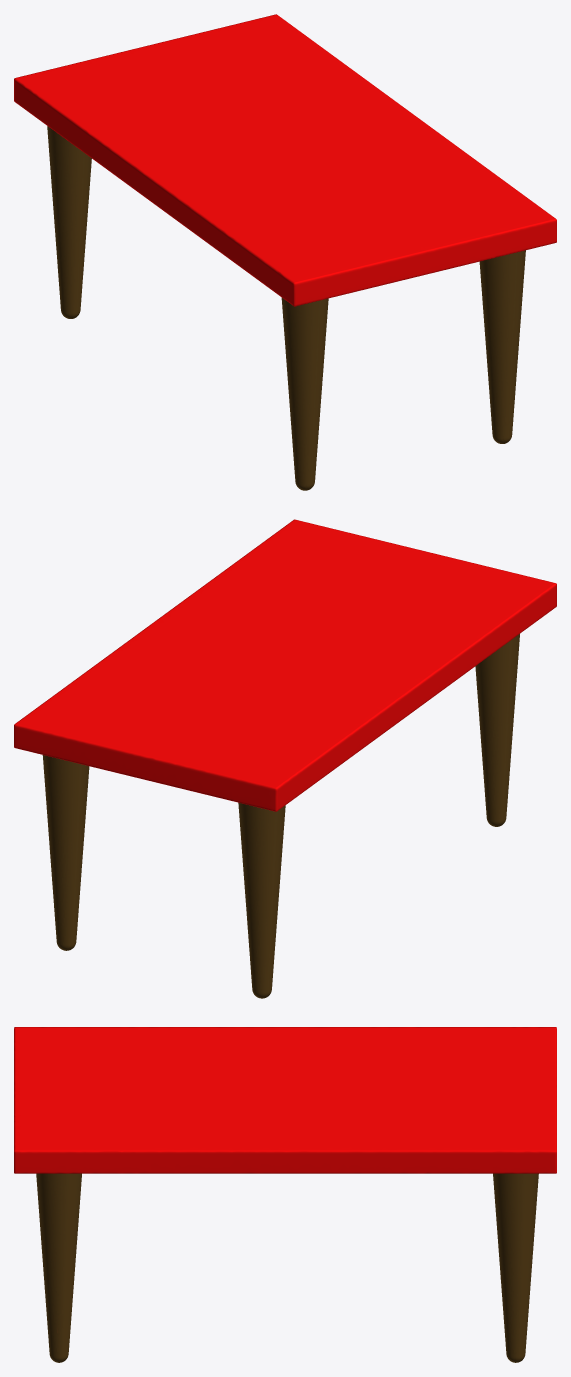
File: glassTable_compressed.glb
3 renders of one model, top to bottom at view 1: azimuth 30°, elevation 25°; view 2: azimuth 150°, elevation 25°; view 3: azimuth 270°, elevation 25°, orthographic. The views are drawn at different scales.
Size of the model in its own units: 121 by 102 by 223.
1 material, 1 textured.
